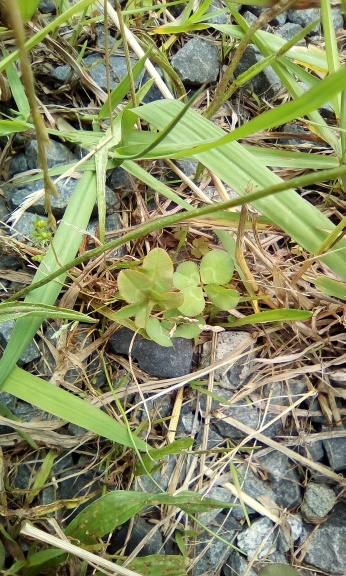4leaf: (110, 247, 184, 328), (172, 249, 241, 317)
